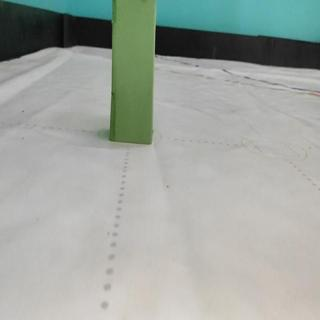greenbox: (111, 0, 156, 147)
